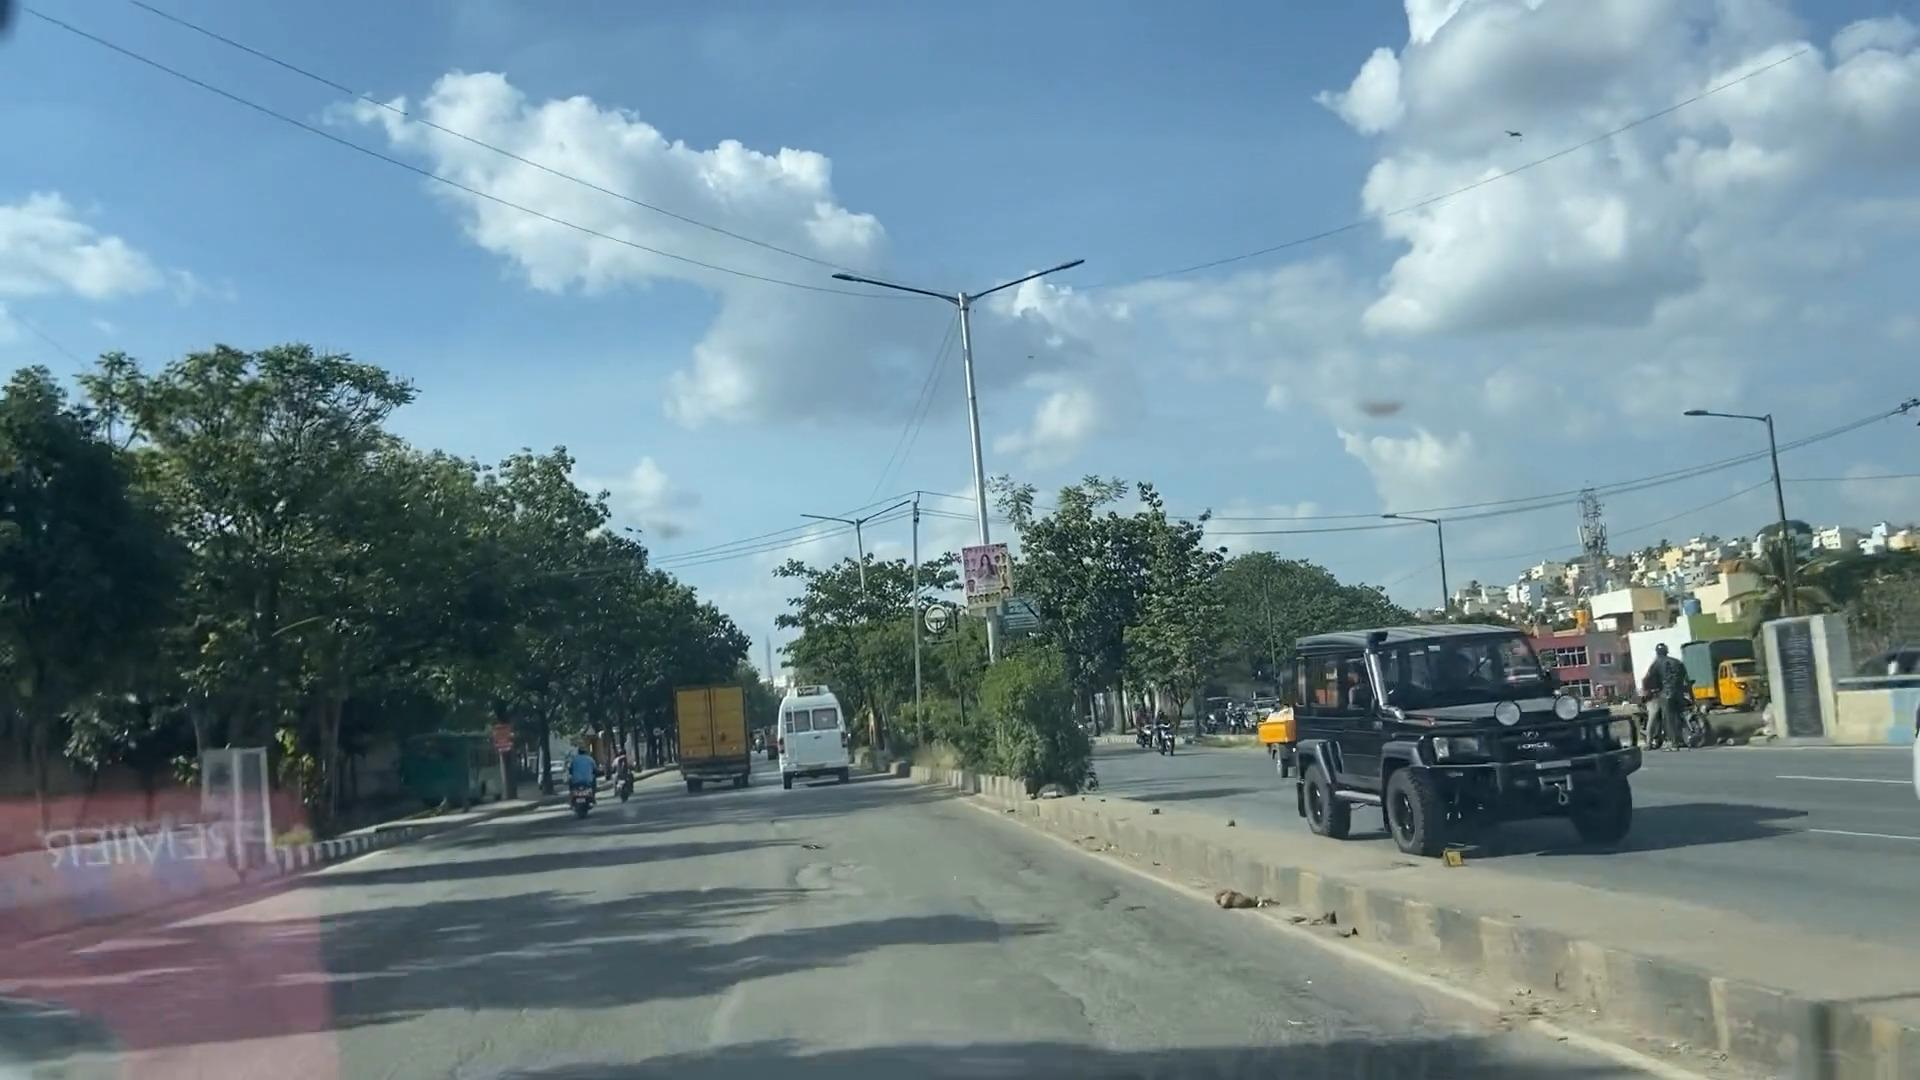HMV: (666, 682, 761, 791), (779, 670, 862, 790)
LMV: (562, 752, 612, 827)
RoadDamages: (1155, 939, 1385, 1076), (439, 981, 616, 1080), (725, 825, 874, 924), (990, 857, 1096, 959)
